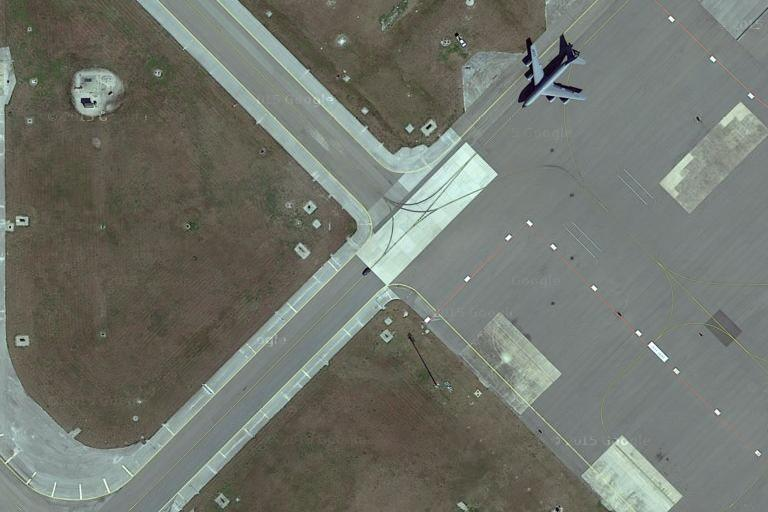KC-135: (517, 37, 589, 113)
